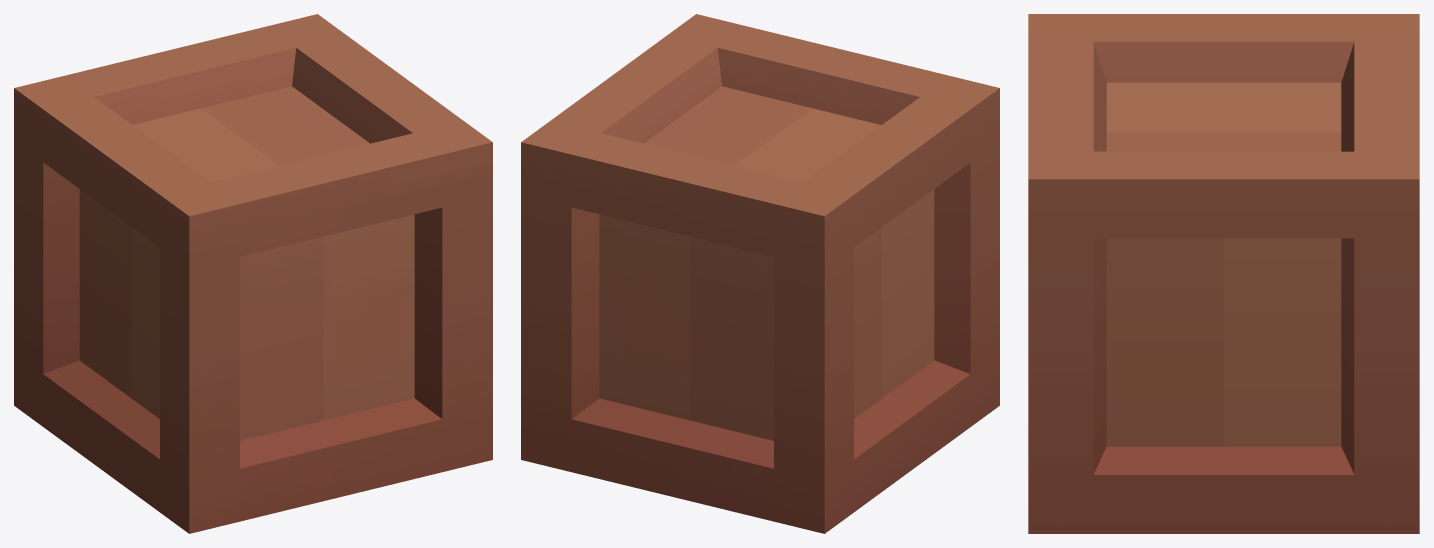
The model's file is crate_A_big.glb.
3 renders of one model, left to right at view 1: azimuth 30°, elevation 25°; view 2: azimuth 150°, elevation 25°; view 3: azimuth 270°, elevation 25°, orthographic. The views are drawn at different scales.
Parts seen in each view (by area): view 1: crate_A_big; view 2: crate_A_big; view 3: crate_A_big.
Boxes of the visible parts, bbox=[...] form: crate_A_big: bbox=[14, 14, 492, 533]; crate_A_big: bbox=[521, 14, 999, 533]; crate_A_big: bbox=[1028, 14, 1419, 533].
Size of the model in its own units: 0.21 by 0.21 by 0.21.
1 material, 1 textured.
